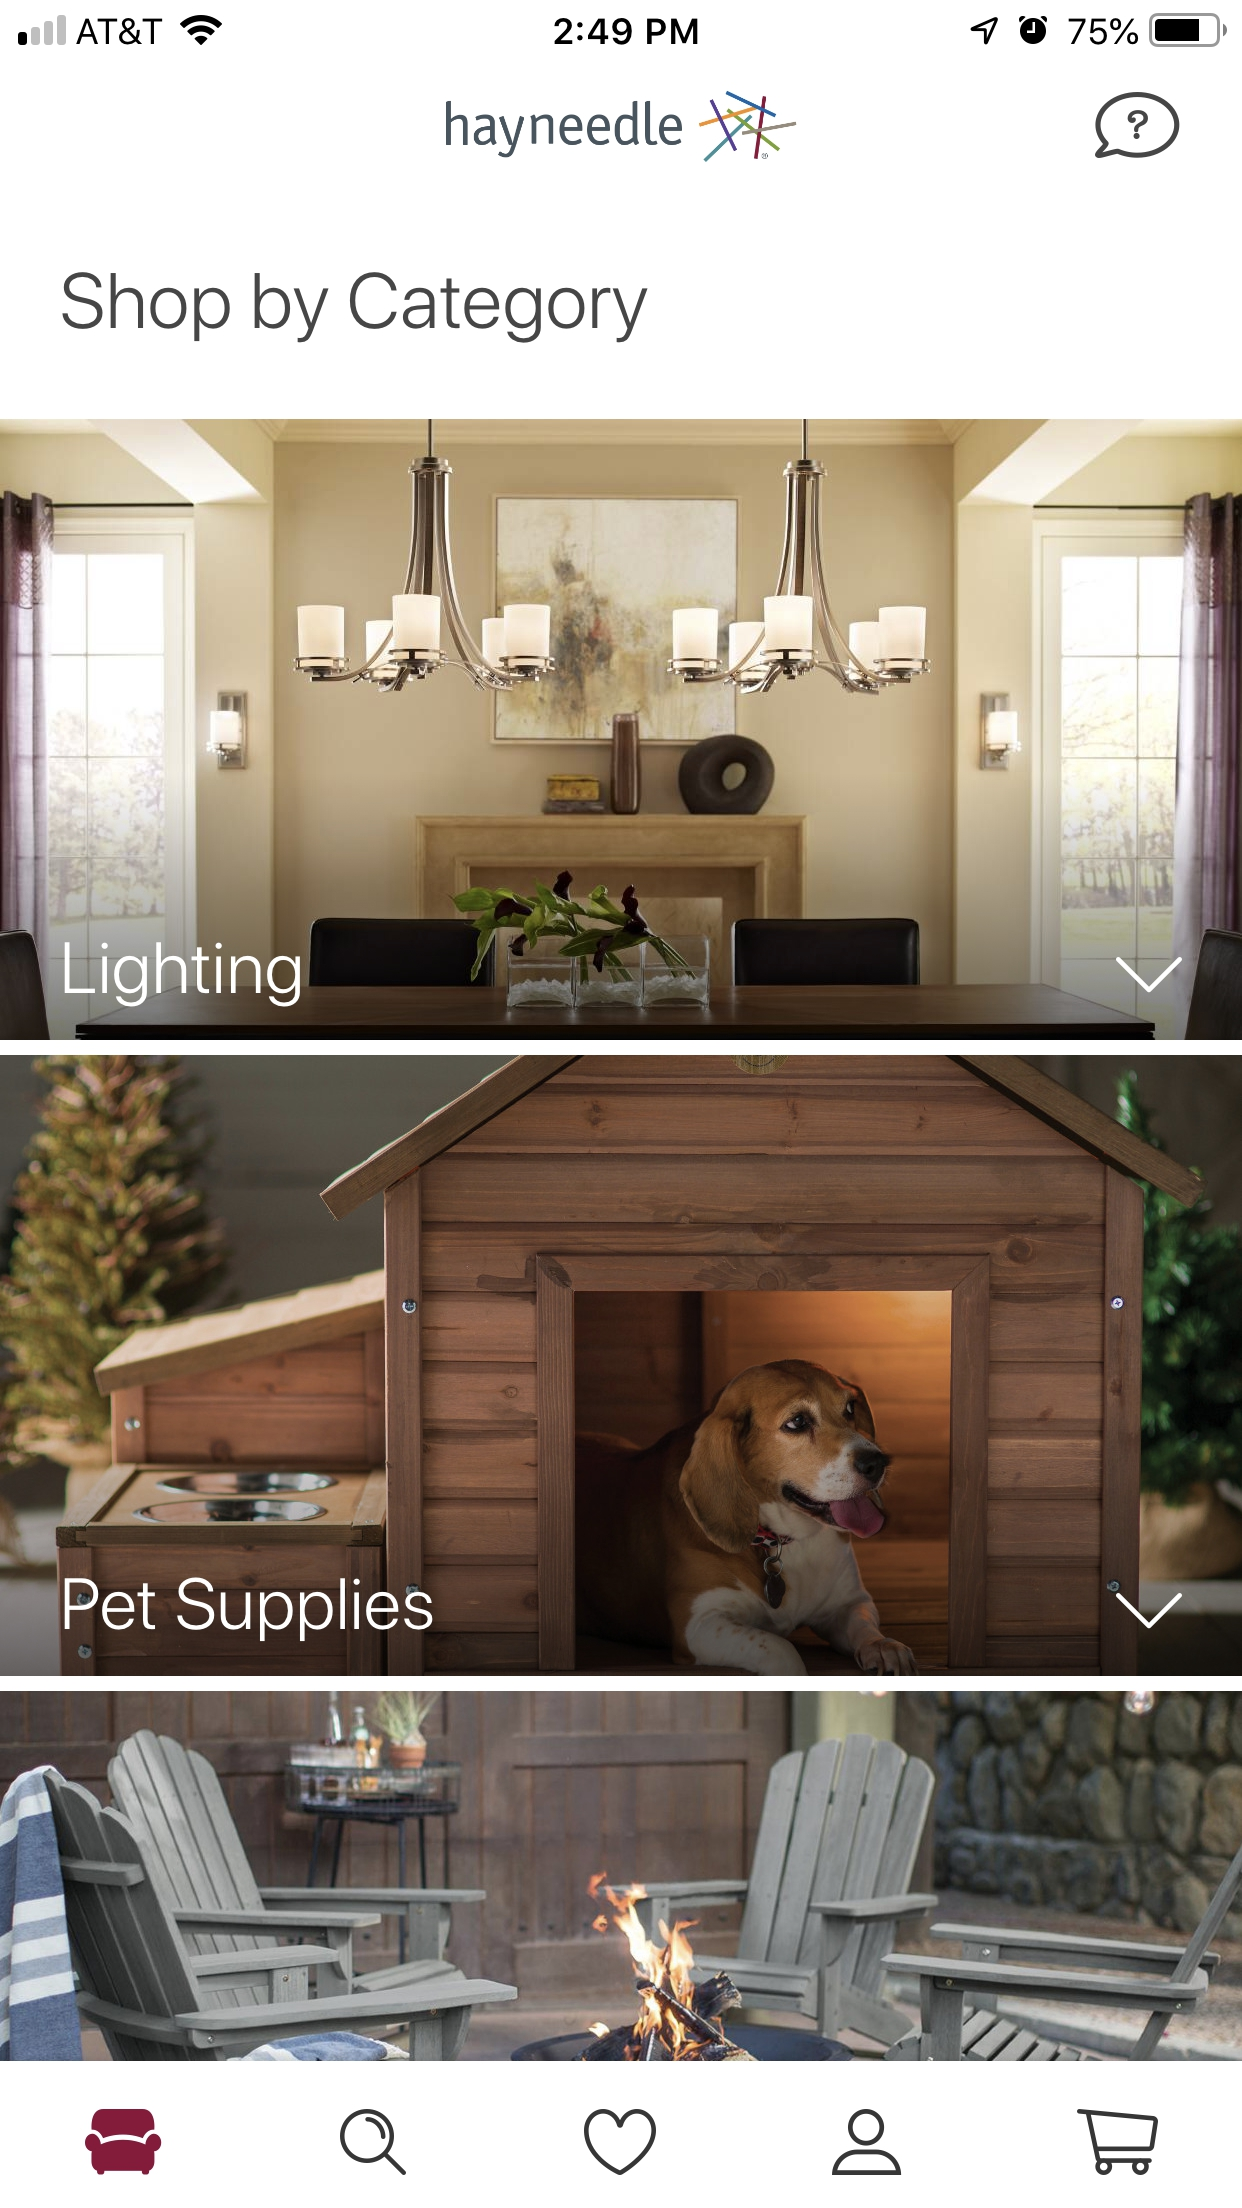Icon: (1093, 93, 1180, 161), (1077, 2109, 1159, 2175), (585, 2109, 657, 2175), (833, 2109, 902, 2175), (340, 2109, 406, 2175), (1118, 1594, 1183, 1629), (1116, 958, 1181, 993)
Image: (2, 1055, 1242, 1677), (2, 419, 1242, 1040), (2, 1691, 1242, 2061), (701, 93, 798, 164), (86, 2109, 162, 2175)
Text: (62, 271, 649, 344), (65, 1577, 434, 1641), (64, 942, 302, 1008), (446, 102, 682, 159)
UpperTaskBar: (2, 2, 1242, 49)
